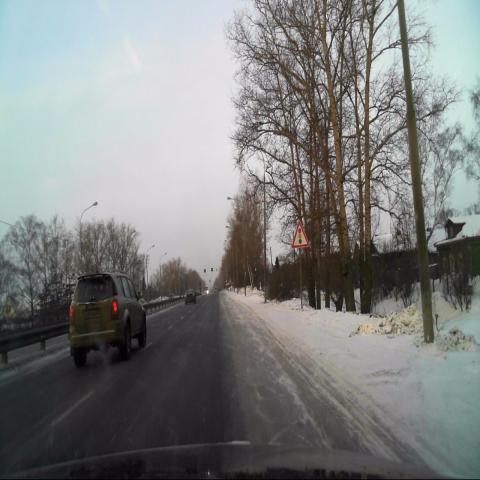1_8: (291, 220, 310, 248)
